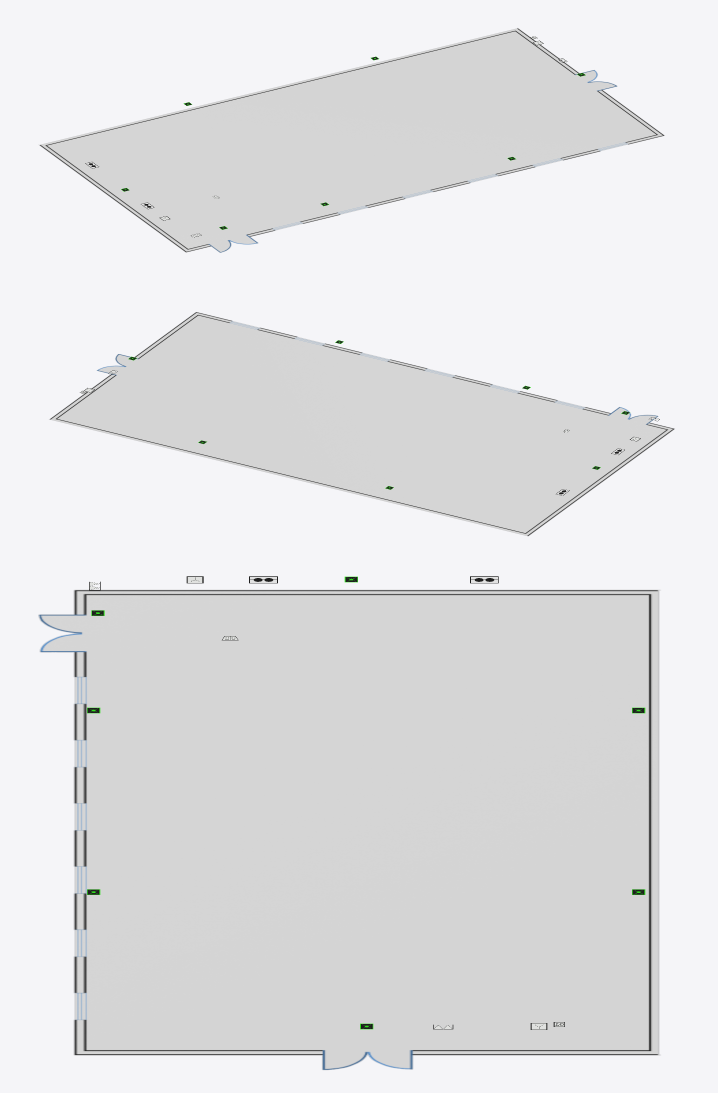
The picture shows the model from 3 angles, top to bottom: view 1: azimuth 30°, elevation 25°; view 2: azimuth 150°, elevation 25°; view 3: azimuth 270°, elevation 25°; orthographic projection. The views are drawn at different scales.
Parts seen in each view (by area): view 1: NC_RM_Floor_35kV开关室; view 2: NC_RM_Floor_35kV开关室; view 3: NC_RM_Floor_35kV开关室.
Part boxes in pixels (x1=…): NC_RM_Floor_35kV开关室: x1=39, y1=28, x2=664, y2=252; NC_RM_Floor_35kV开关室: x1=49, y1=312, x2=674, y2=535; NC_RM_Floor_35kV开关室: x1=38, y1=590, x2=659, y2=1069.
Bounding box in the file's own units: 25487 × 517 × 14804.
2 materials, 2 textured.
